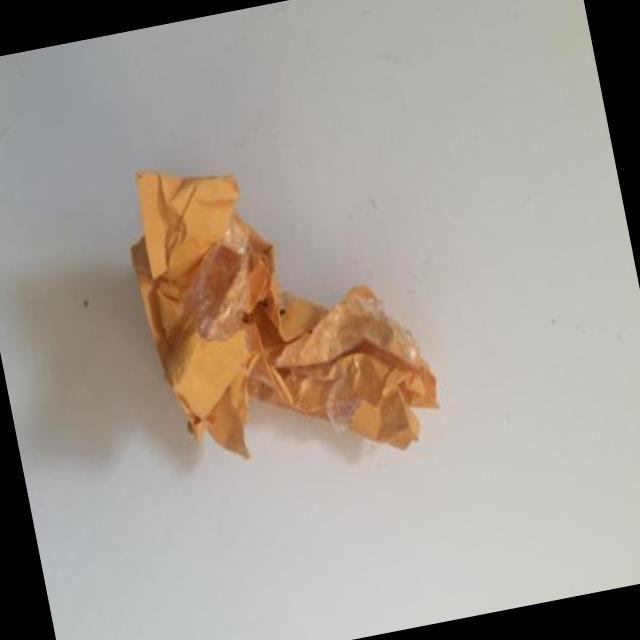giay: (130, 170, 439, 458)
